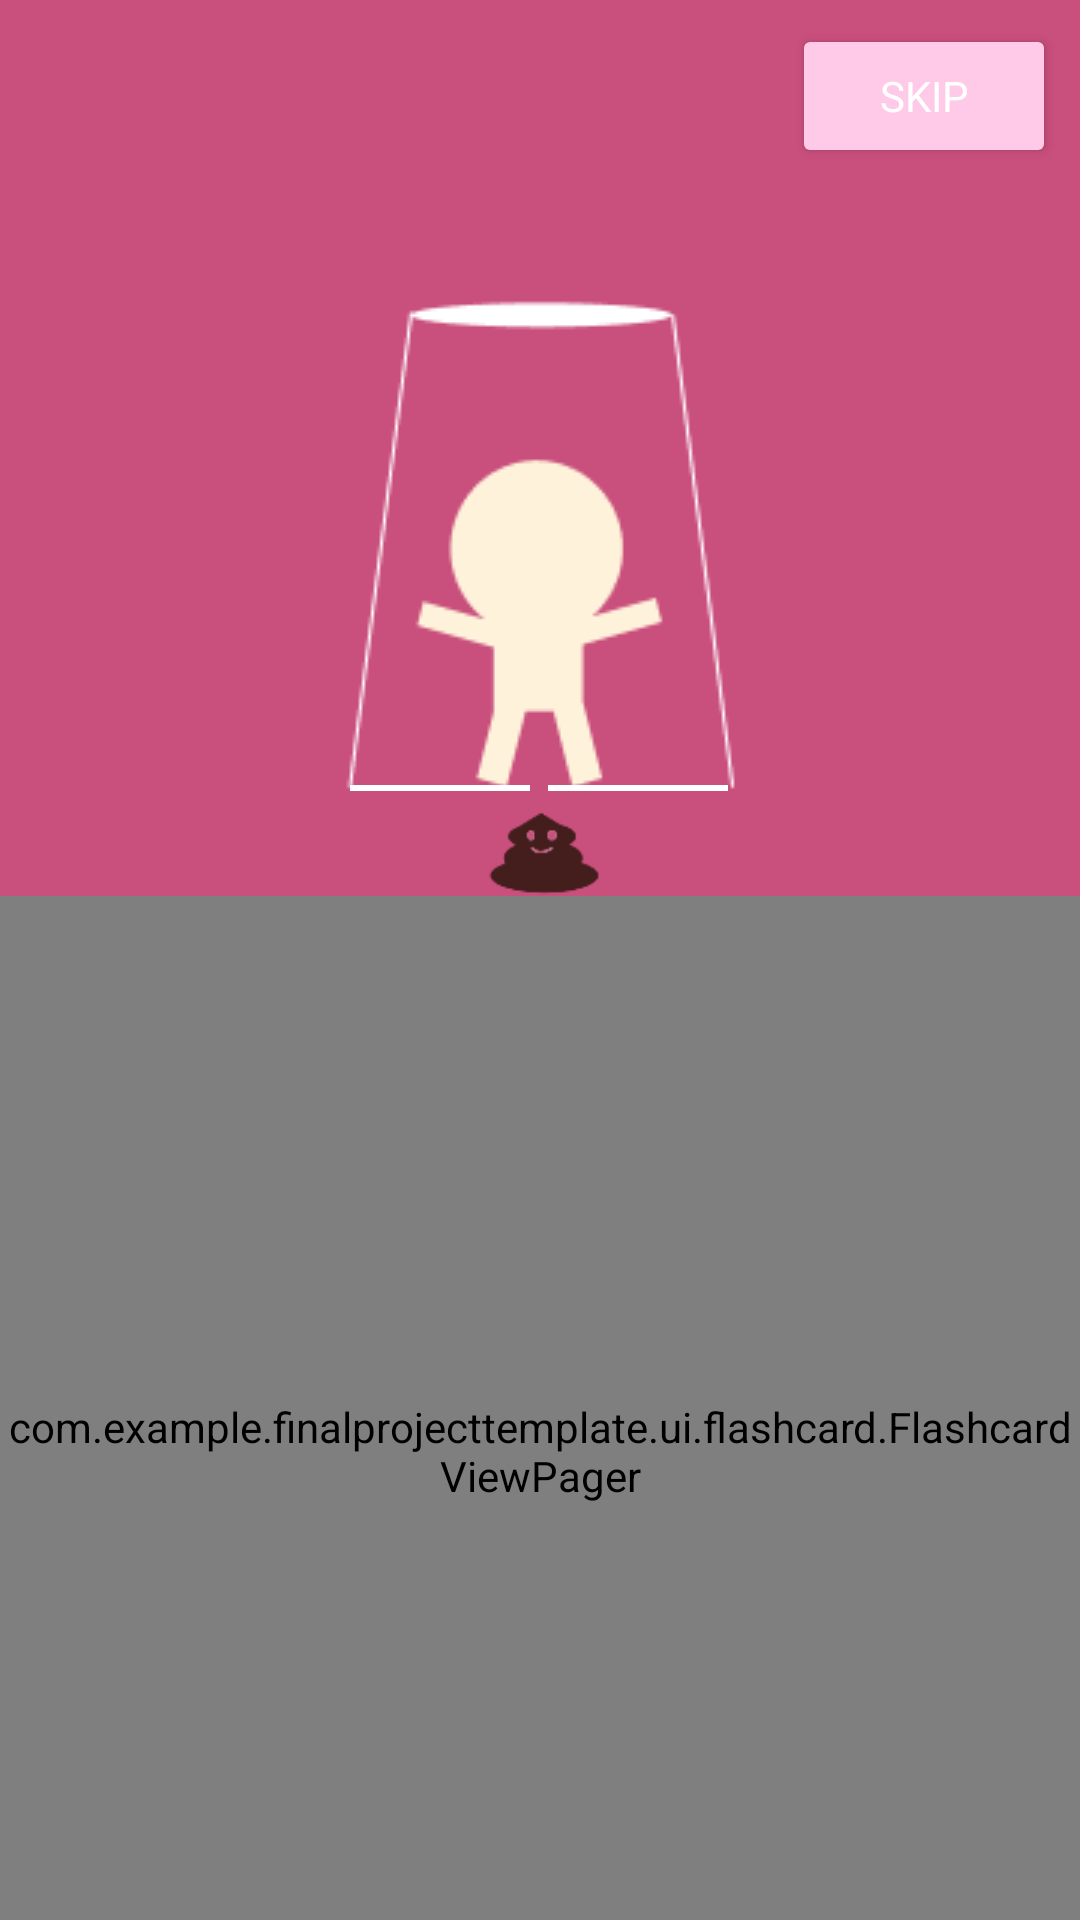

Screen size 1080px x 1920px. Icon name, then its box in pixels as bbox=(x1, y1, x2, y2):
poop: bbox=(489, 813, 599, 893)
